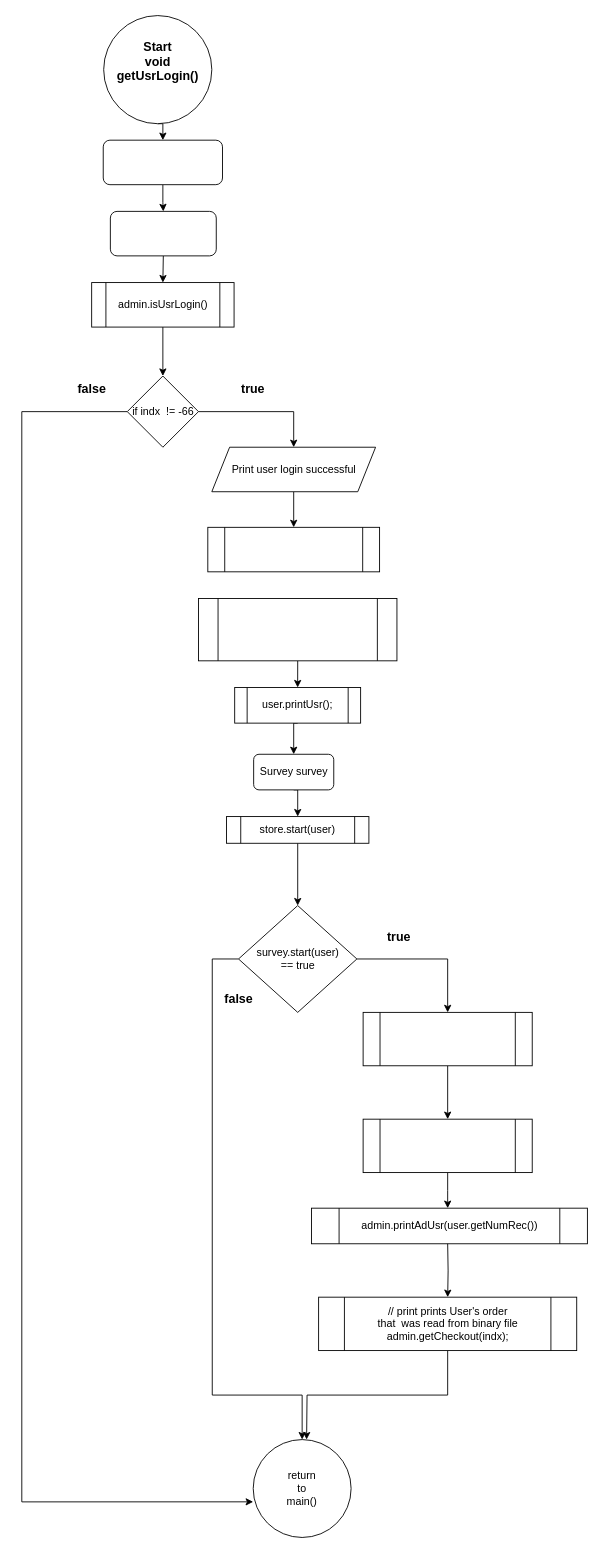
The diagram is 603 pixels wide and 1553 high, and some of its shapes have lost their labels. Here are the shapes that lost their labels. From the top down, the centre of each, then its label:
(x=162, y=162): Admin admin; User user;
(x=162, y=233): set int indx = isUsrLogin()
(x=293, y=549): admin.printAdusr(indx)
(x=297, y=629): // Create new User & copy admin values to user object admin.copy2Usr(user,indx);
(x=447, y=1038): //rewrite this record in binary & text files user.reWrtBin(recordLoc)
(x=447, y=1145): // read binary file & reset usrArr[] admin.readBin_setArray()
